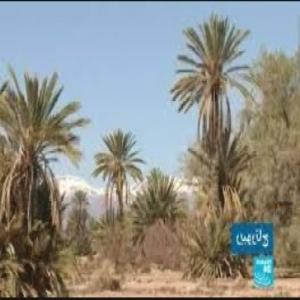palm tree: (170, 12, 259, 212), (0, 63, 90, 245), (92, 127, 145, 223)
